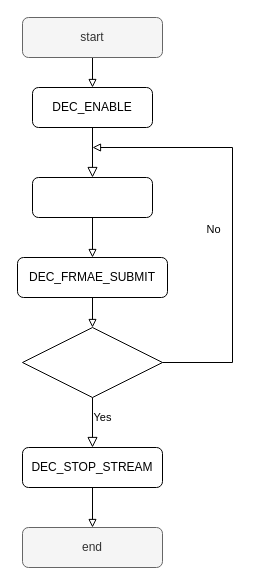
Some shapes in this 258 by 585 pixel diagram are drawn without their labels. Here are the shapes that lost their labels. From the top down, the centre of each, then its label:
At pixel 92 197: "prepare image buffer".
At pixel 92 362: "finished playing ?".
